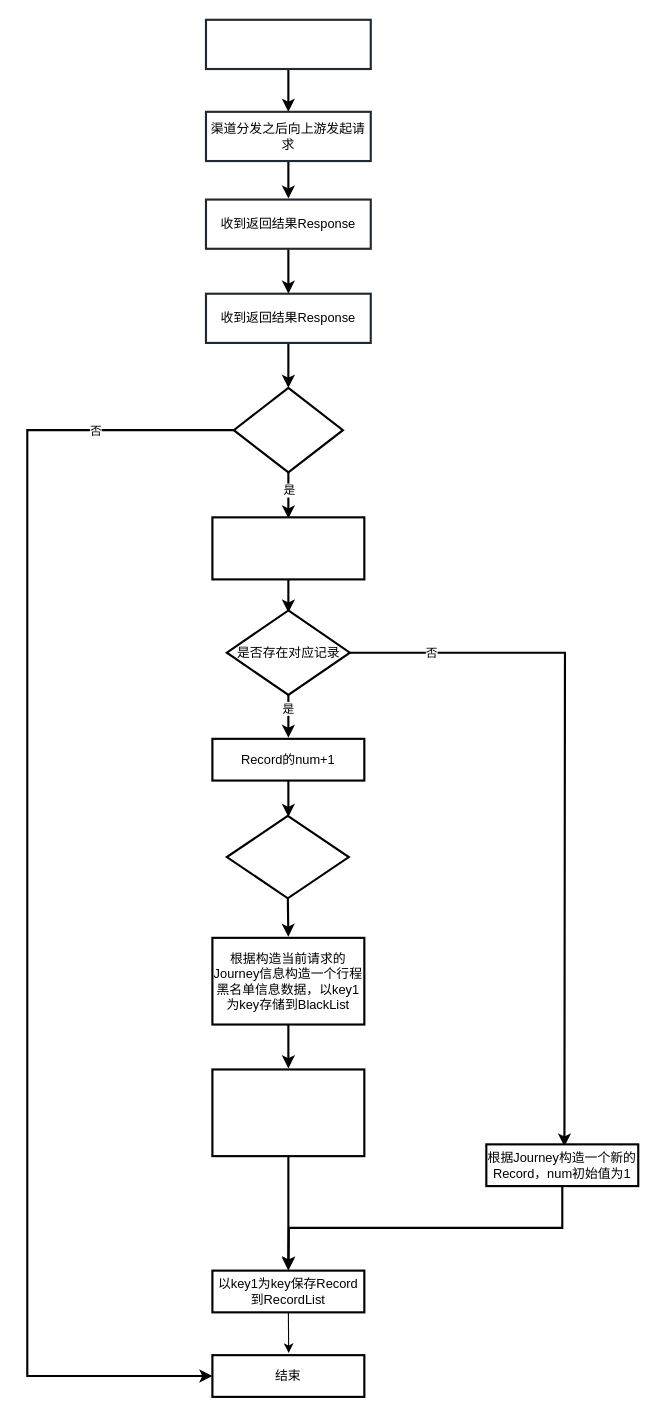
The diagram is 657 pixels wide and 1416 high, and some of its shapes have lost their labels. Here are the shapes that lost their labels. From the top down, the box of each, then its label:
(204, 18, 371, 70): 接收到下游客户的验价请求
(232, 386, 343, 473): 失败且是无舱无价错误
(211, 516, 365, 580): 查询RecordList是否存在由当前请求的Journey信息组成的key1所对应的Record
(225, 814, 349, 899): 当前num值是否超过配置的阈值
(211, 1068, 365, 1157): 构造一个定时探测恢复任 务Task，key为上key1，到期执行时间为可配置的间隔 Threshold，保存到ScheduleList
